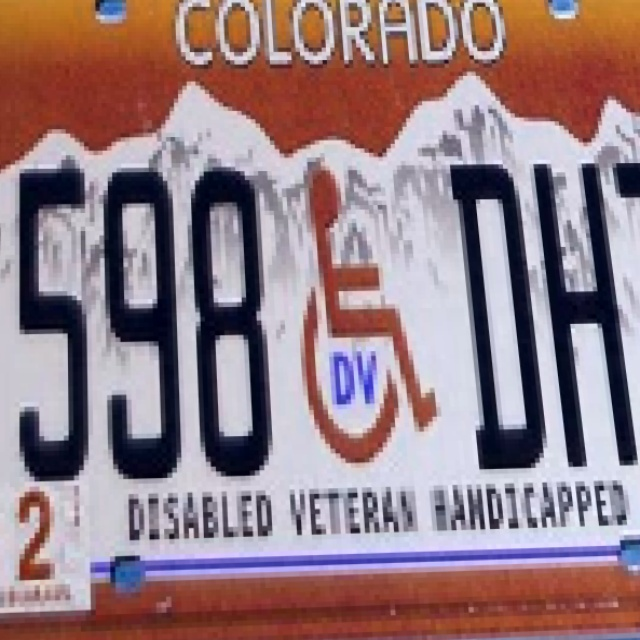ISA: (290, 165, 443, 465)
